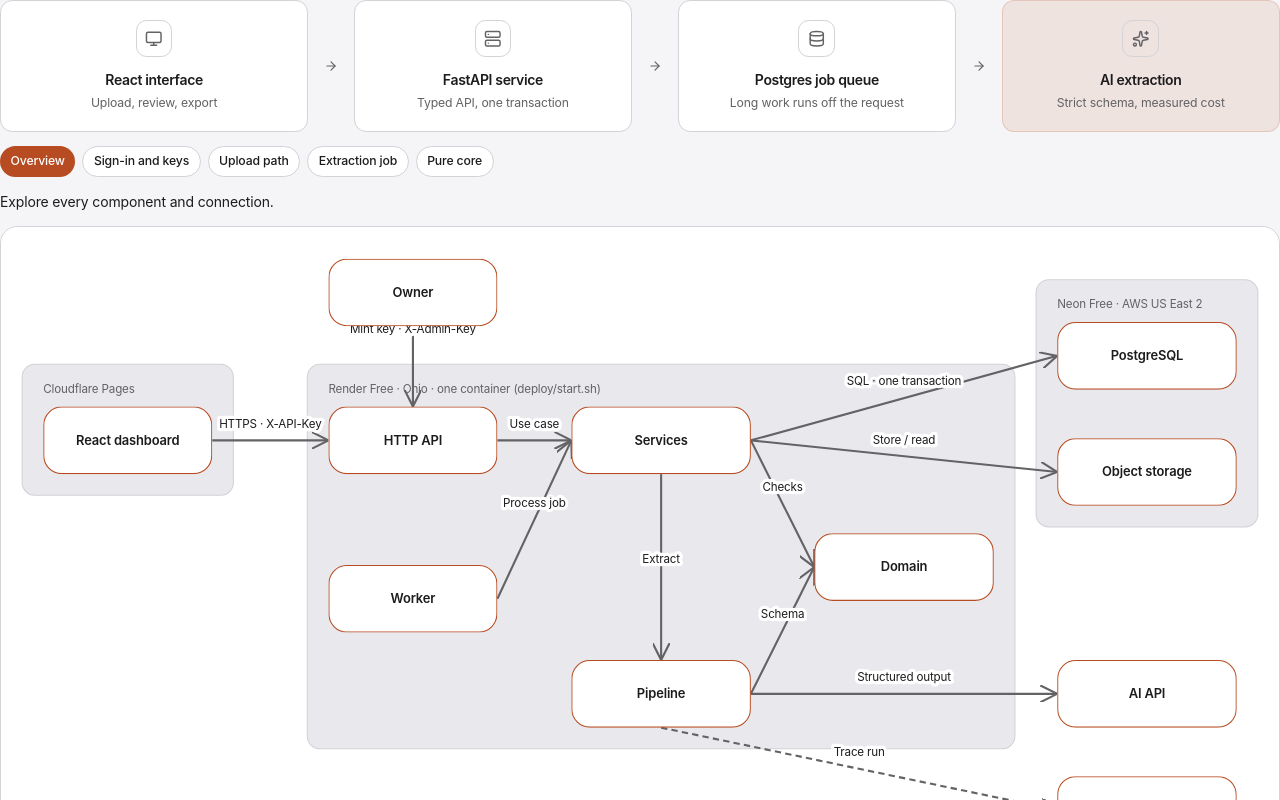
Test: selecting a flow dims unrelated nodes and connections and shows its explanation
What coordinates should you click on to do the following:
click the button "Sign-in and keys"
I would click on:
 (142, 161)
Its box is [82,146,201,177].
(page scrolled)
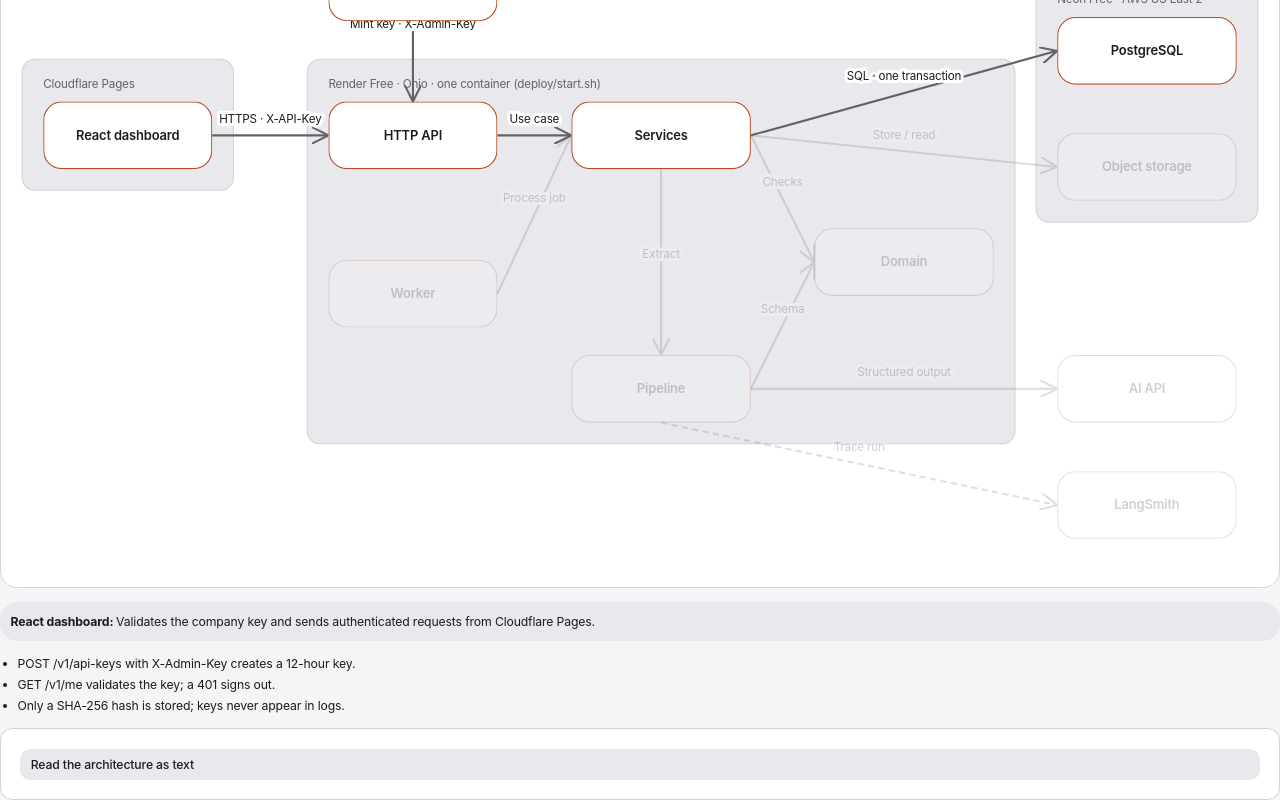
expect the list item "Only a SHA-256 hash is stored; keys never appear in logs." is shown: met, box [18,698,345,713]
